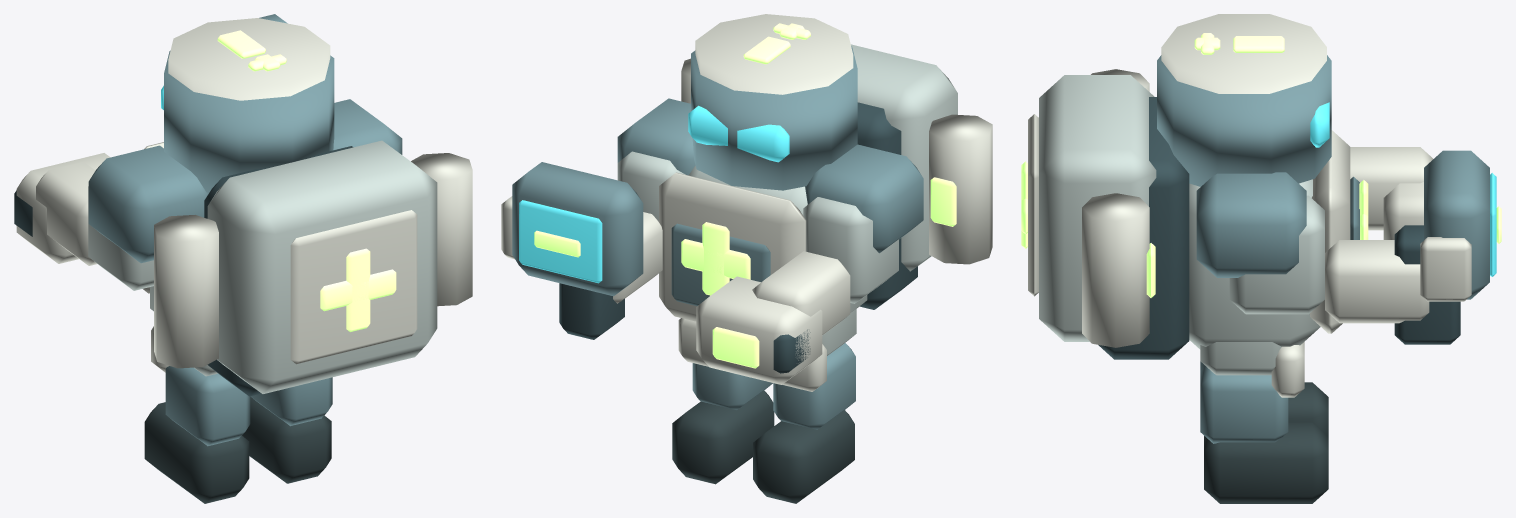
Rendered from medic.glb.
3 renders of one model, left to right at view 1: azimuth 30°, elevation 25°; view 2: azimuth 150°, elevation 25°; view 3: azimuth 270°, elevation 25°, orthographic. The views are drawn at different scales.
Visible parts, largest first — view 1: Medic chest vest, Armored torso, Torso shadow panel, Medic leg L, Medic leg R, Arm.L forearm, Medical chest cross vertical, Arm.L upper, Medic backpack frame; view 2: Torso shadow panel, Medic chest vest, Arm.R forearm, Arm.L forearm, Medic leg L, Armored torso, Medic leg R, Arm.L upper, Medical chest cross vertical, Medic backpack frame, Medic visor, Arm.R upper; view 3: Torso shadow panel, Armored torso, Medic chest vest, Arm.R forearm, Medic leg R, Medic backpack frame, Arm.L forearm, Arm.R upper, Medical chest cross vertical, Medic leg L, Medic visor.
Boxes of the visible parts, x1,y1,x2,y2 form: Medic chest vest: (143,18,472,368); Armored torso: (150,140,437,393); Torso shadow panel: (88,50,402,263); Medic leg L: (144,326,250,503); Medic leg R: (242,377,332,483); Arm.L forearm: (14,153,110,265); Medical chest cross vertical: (217,30,396,331); Arm.L upper: (88,186,153,290); Medic backpack frame: (204,146,353,396); Torso shadow panel: (617,46,923,305); Medic chest vest: (659,14,992,321); Arm.R forearm: (501,162,662,339); Arm.L forearm: (696,251,850,384); Medic leg L: (753,308,856,503); Armored torso: (688,44,957,312); Medic leg R: (672,318,774,484); Arm.L upper: (803,197,898,303); Medical chest cross vertical: (681,23,956,295); Medic backpack frame: (857,102,917,309); Medic visor: (688,105,789,162); Arm.R upper: (617,151,685,220); Torso shadow panel: (1157,55,1359,277); Armored torso: (1039,75,1320,349); Medic chest vest: (1028,14,1350,347); Arm.R forearm: (1325,150,1501,344); Medic leg R: (1200,342,1328,503); Medic backpack frame: (1098,97,1189,359); Arm.L forearm: (1350,147,1433,239); Arm.R upper: (1229,195,1324,314); Medical chest cross vertical: (1021,33,1368,297); Medic leg L: (1200,361,1328,436); Medic visor: (1310,102,1329,147).
Size of the model in its own units: 0.6419 by 0.82 by 0.8188.
